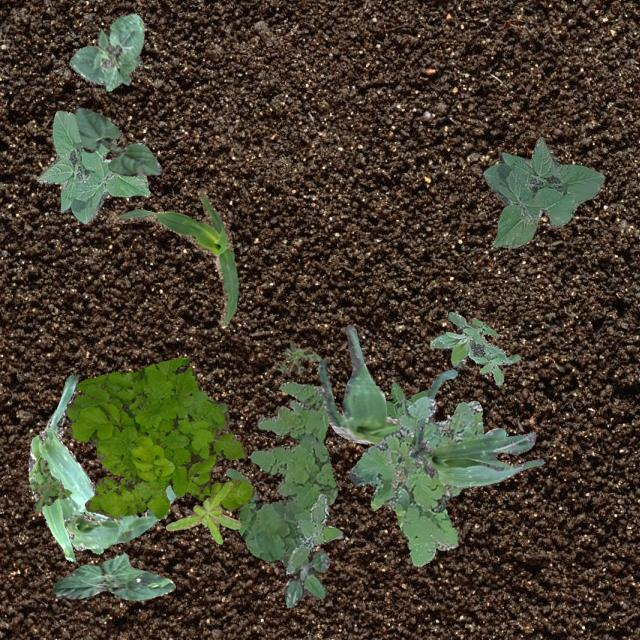crop: (316, 323, 504, 442), (108, 188, 236, 324), (28, 374, 110, 560), (482, 136, 604, 247), (36, 110, 150, 222), (406, 418, 544, 488), (64, 484, 175, 550), (72, 106, 160, 174), (52, 552, 175, 600), (70, 13, 144, 90)
weed: (65, 357, 254, 518), (348, 396, 482, 564), (225, 380, 336, 560), (428, 310, 520, 384), (284, 492, 342, 574), (164, 480, 240, 542), (280, 550, 328, 606), (28, 458, 70, 511), (274, 341, 320, 374), (385, 382, 427, 418)
